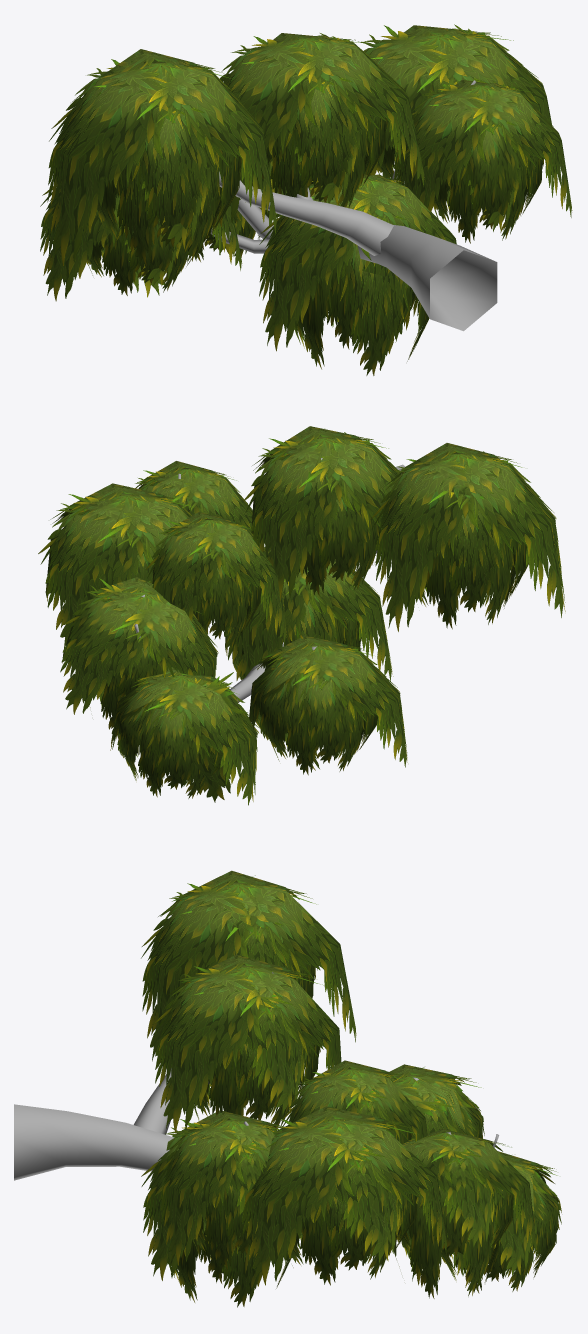
File: FFP Tree_002_2mush.fbx
3 views of the same model, one above another, from view 1: azimuth 30°, elevation 25°; view 2: azimuth 150°, elevation 25°; view 3: azimuth 270°, elevation 25° (orthographic). The views are drawn at different scales.
Parts seen in each view (by area): view 1: polySurface327, polySurface326; view 2: polySurface327, polySurface326; view 3: polySurface327, polySurface326.
Boxes of the visible parts, x1,y1,x2,y2 form: polySurface327: [40, 24, 572, 375]; polySurface326: [210, 80, 497, 331]; polySurface327: [38, 426, 565, 805]; polySurface326: [134, 458, 405, 702]; polySurface327: [141, 870, 561, 1307]; polySurface326: [14, 972, 498, 1180].
Size of the model in its own units: 26.97 by 16.62 by 24.8.
